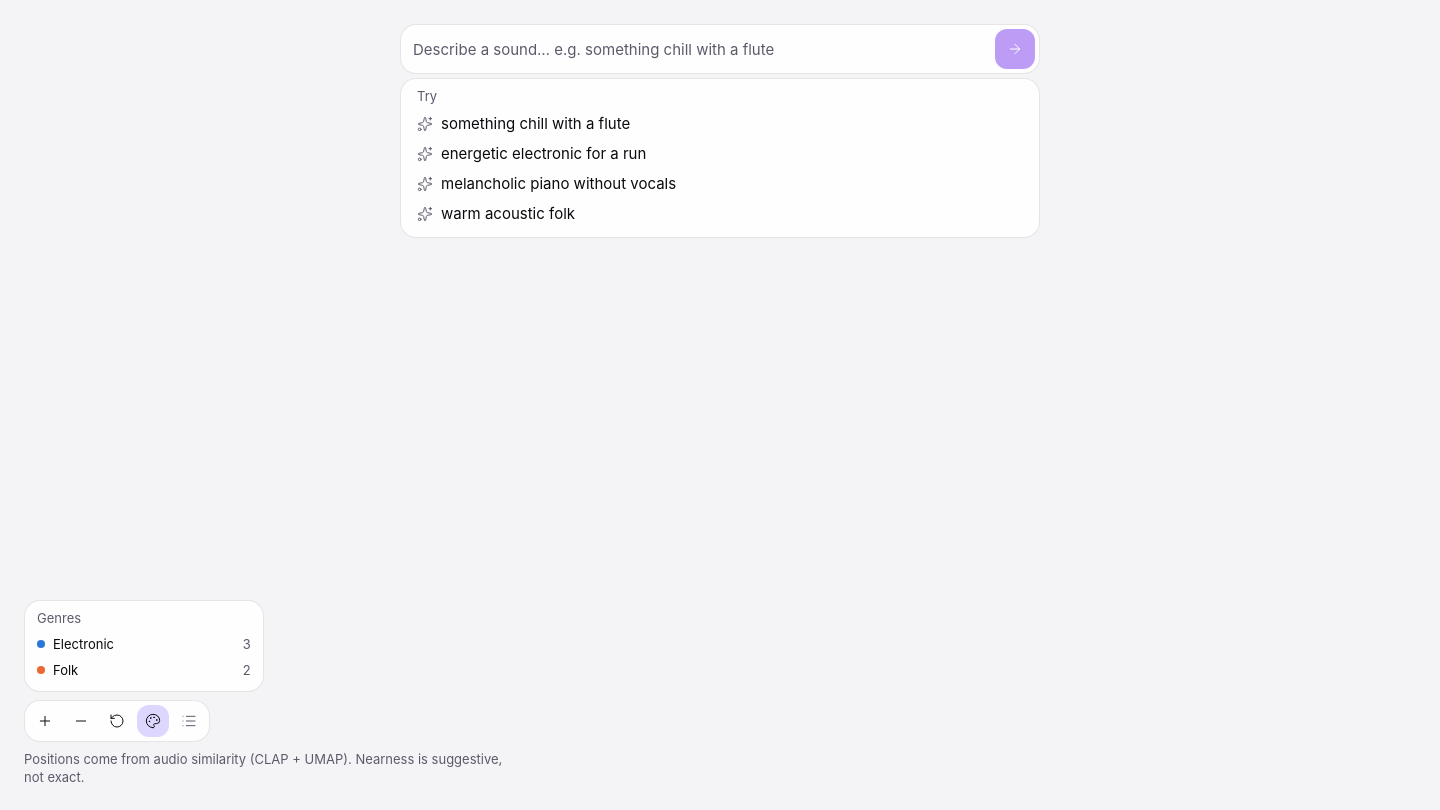
it: DiscoverPage › empty: says nothing matched and offers to edit the search
Type "xyz" into the field named "Search by describing a sound" at (700, 49), box [413, 29, 987, 69]
Then press Enter
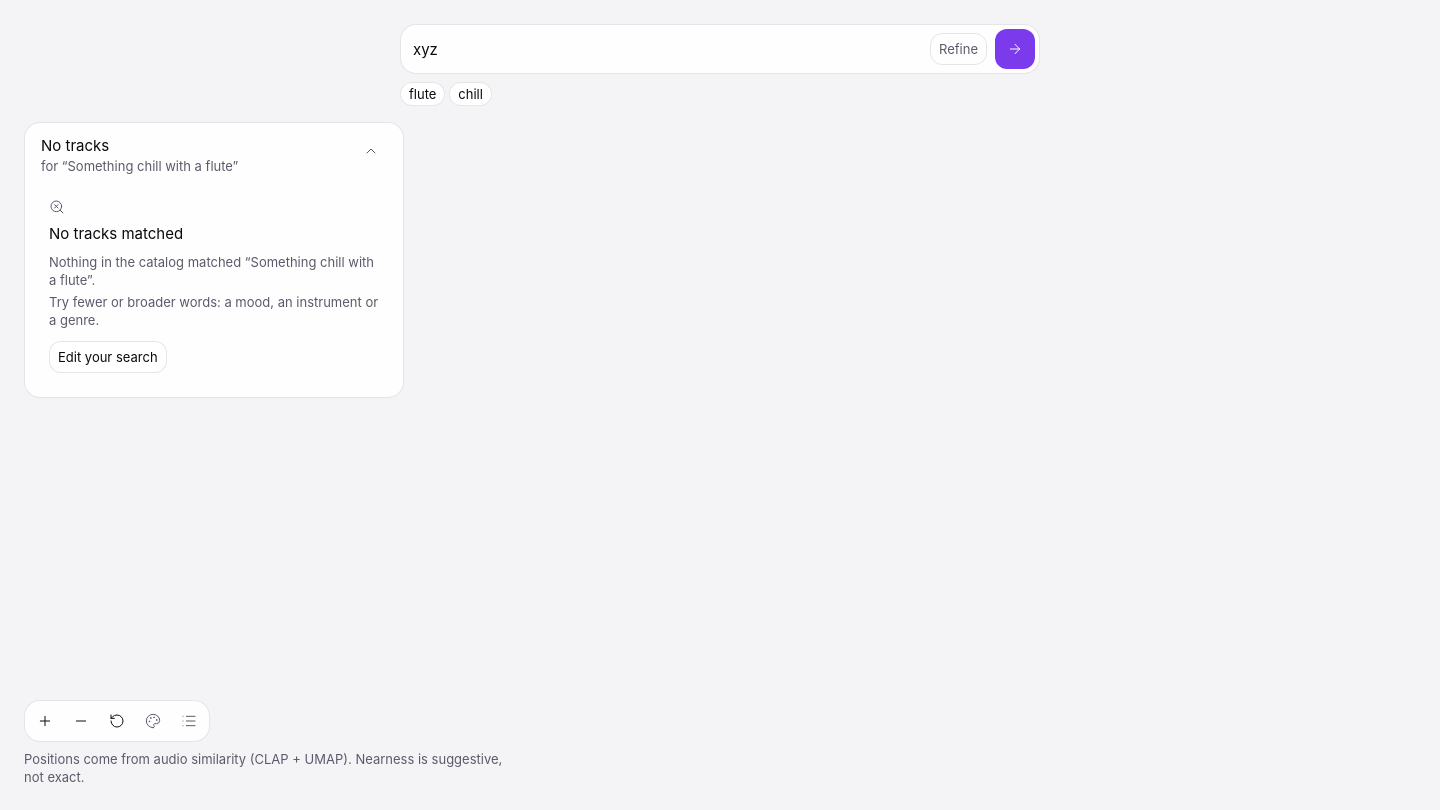
Expected: the heading "No tracks matched" is shown, [49, 223, 183, 245]
Clear the field named "Search by describing a sound" at (668, 49), box [413, 29, 922, 69]
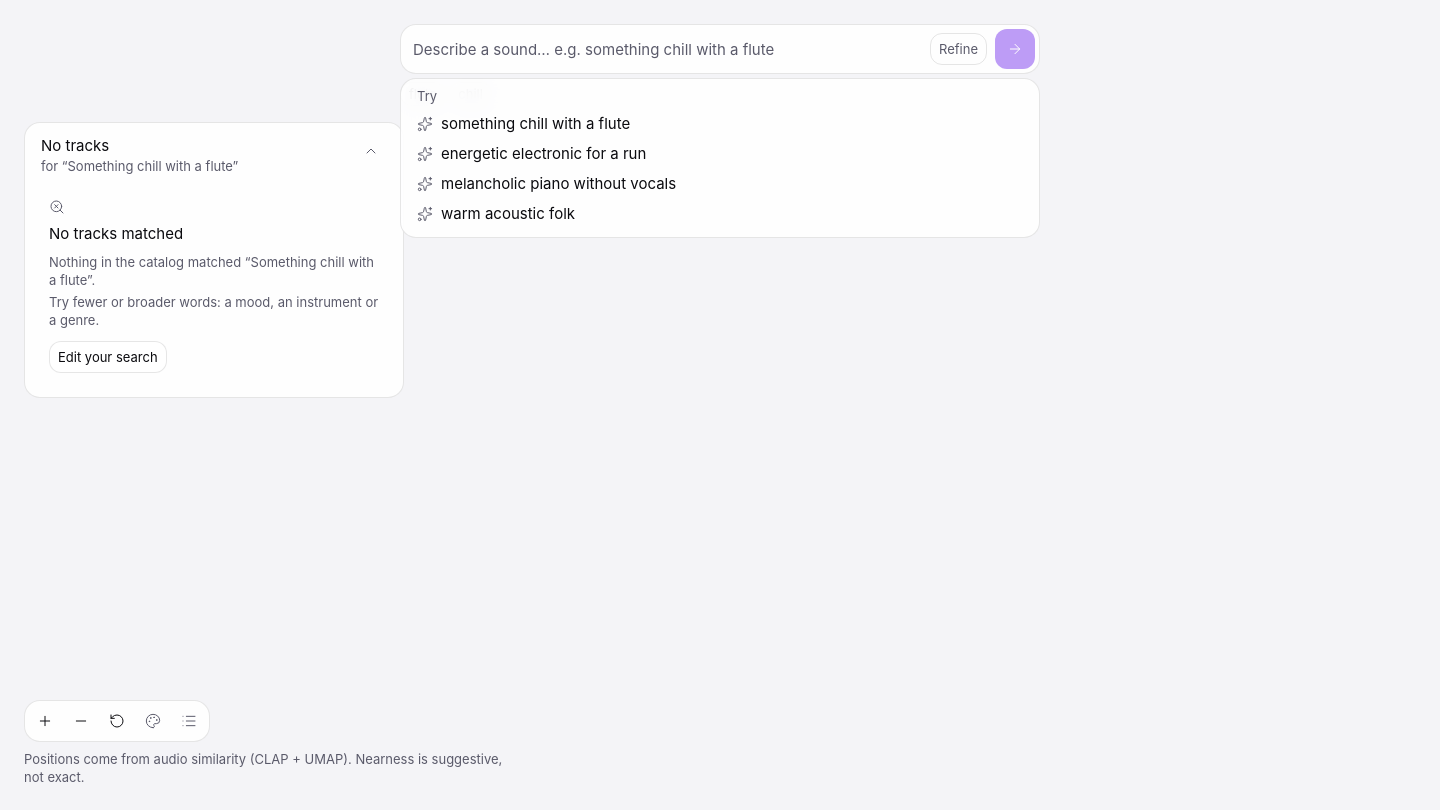
Click the button "Edit your search" at (108, 357), box [49, 341, 167, 373]
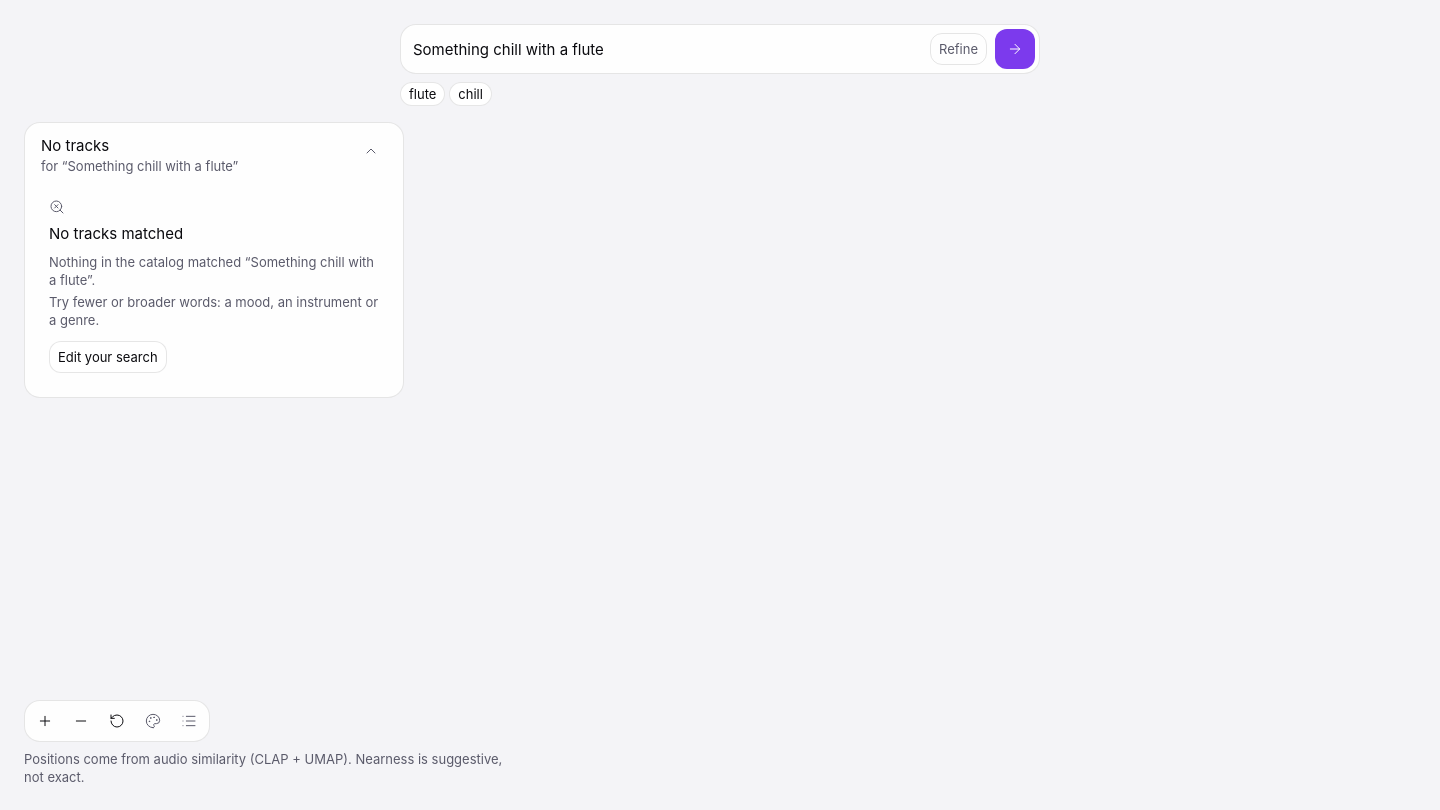
Expected: the field named "Search by describing a sound" holds "Something chill with a flute", [413, 29, 922, 69]
